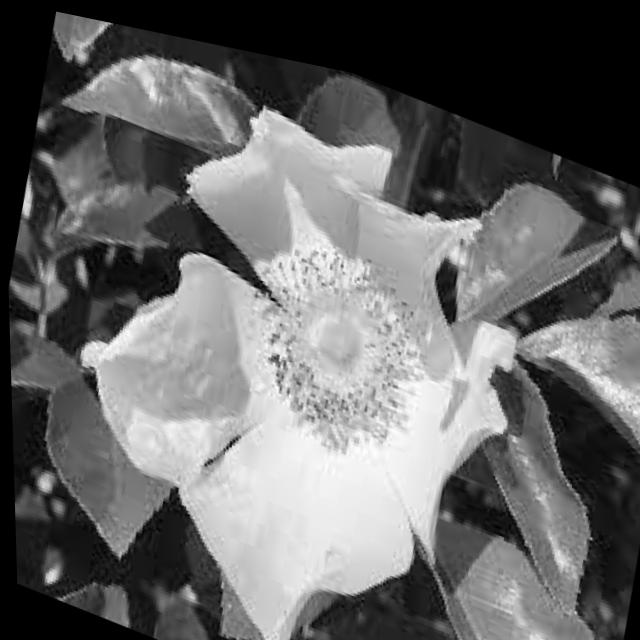Flower: (67, 28, 551, 640)
